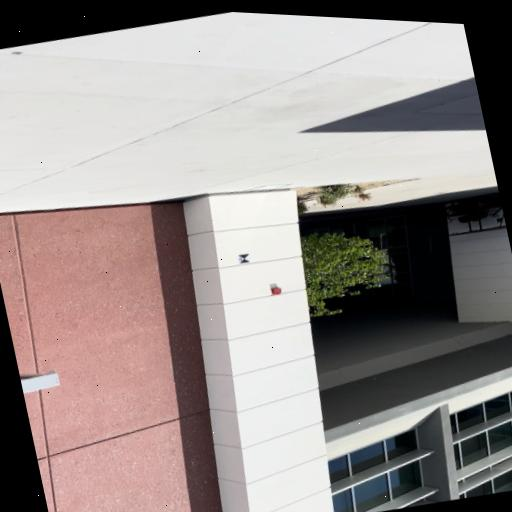target6: (237, 253, 250, 263)
